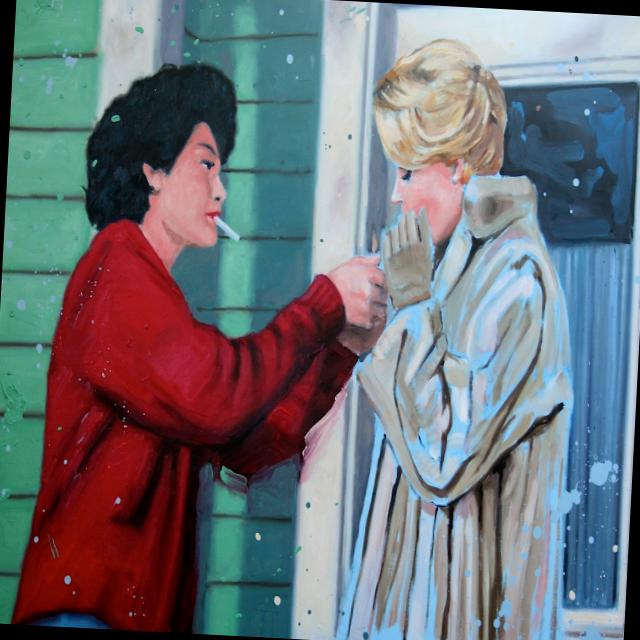smoke: (211, 208, 245, 248)
